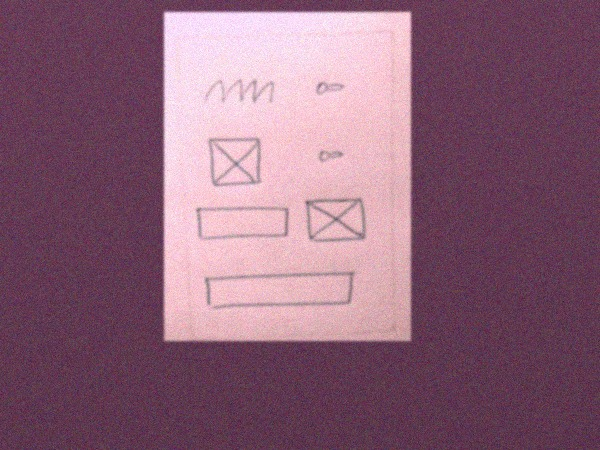image: (300, 194, 375, 244), (206, 132, 266, 190)
switch: (307, 75, 350, 99), (313, 142, 351, 169)
text: (196, 75, 279, 107)
text_input: (199, 270, 360, 314), (194, 204, 292, 244)
